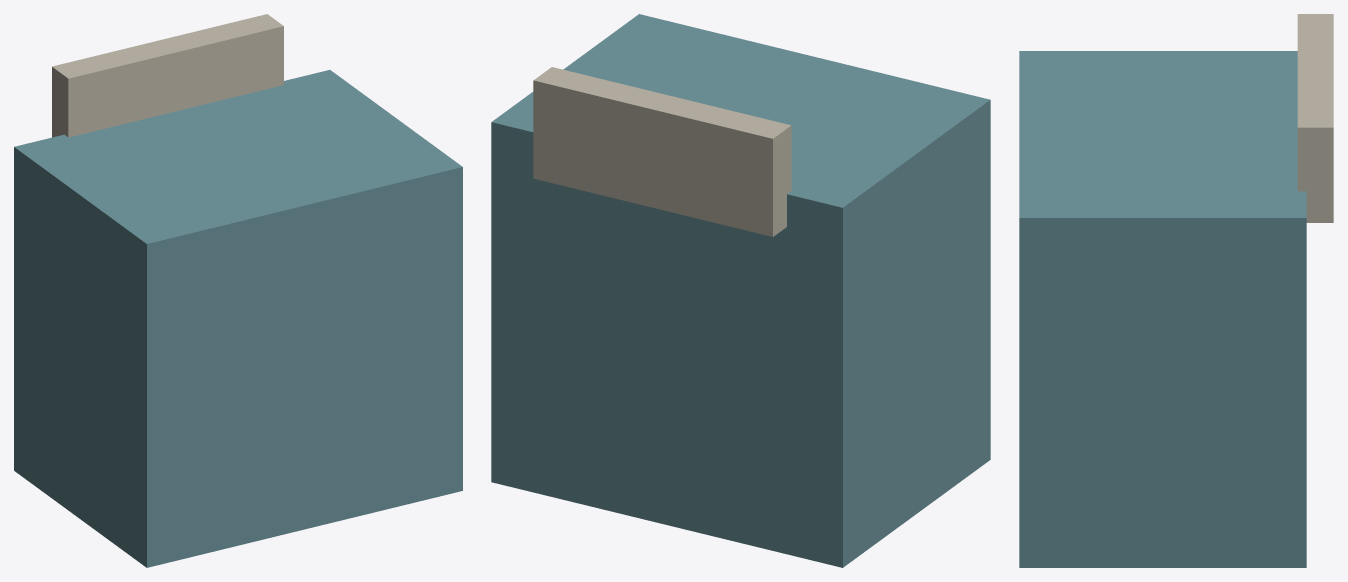
File: iz2_item_flour_sack.glb
The picture shows the model from 3 angles, left to right: view 1: azimuth 30°, elevation 25°; view 2: azimuth 150°, elevation 25°; view 3: azimuth 270°, elevation 25°; orthographic projection. The views are drawn at different scales.
Visible parts, largest first — view 1: body; view 2: body; view 3: body.
Boxes of the visible parts, x1,y1,x2,y2 form: body: [14, 14, 462, 567]; body: [491, 14, 990, 567]; body: [1019, 14, 1333, 567].
Bounding box in the file's own units: 0.2263 × 0.2619 × 0.1803.
